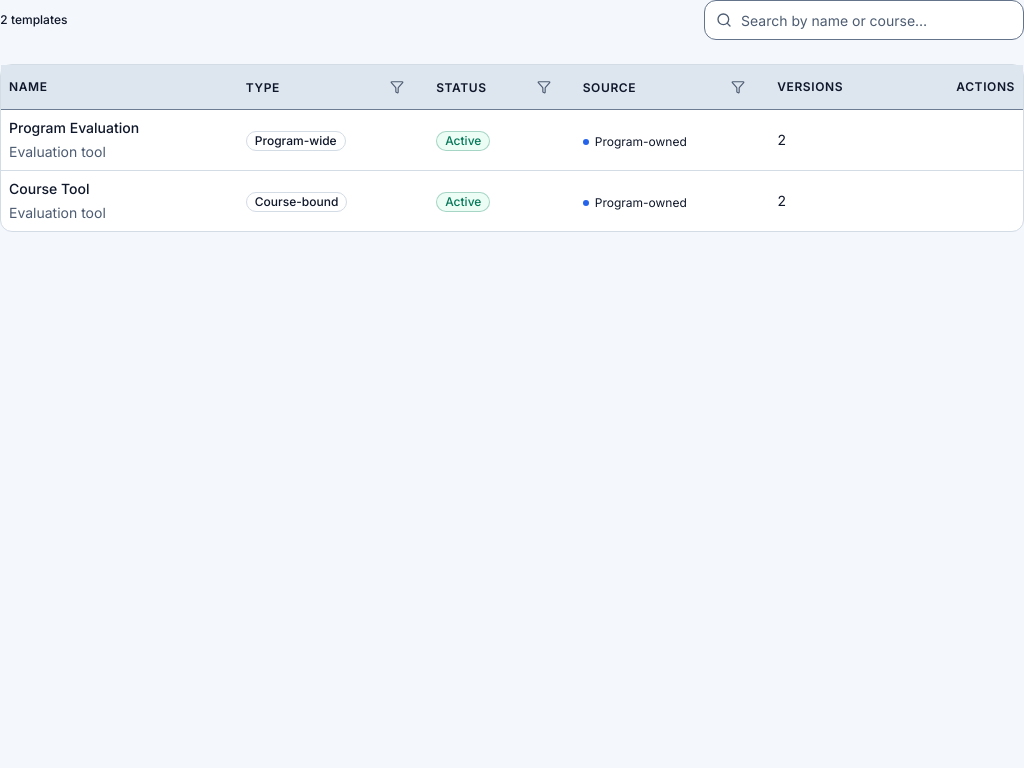
TemplateCollection › filters a section by its Type column funnel
Click the button with aria-label "Filter Type" at point(325, 87), box [238,65,412,109]
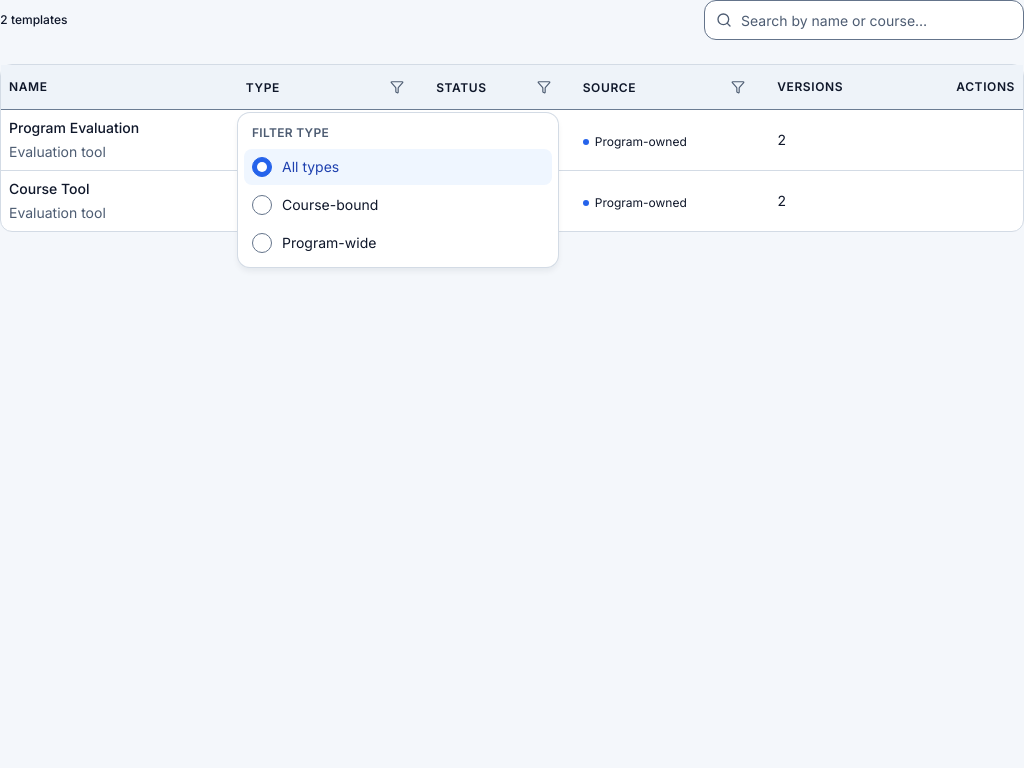
Click the 2nd radio button named "Course-bound" at point(262, 205), box [252,195,272,215]
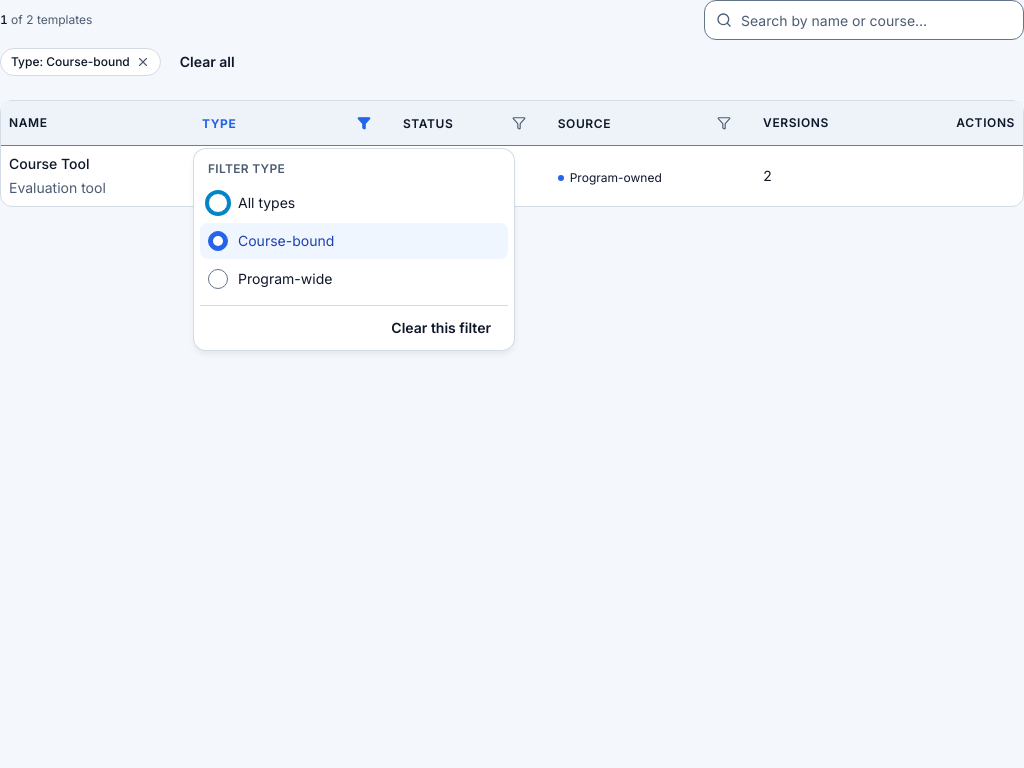
Expected: the text "Course Tool" is shown, [9,155,90,172]
Now the text "Program Evaluation" is gone
